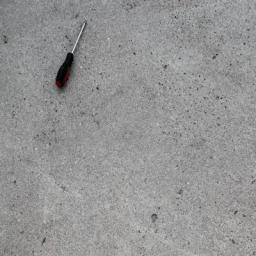FOD: (54, 21, 91, 91)
